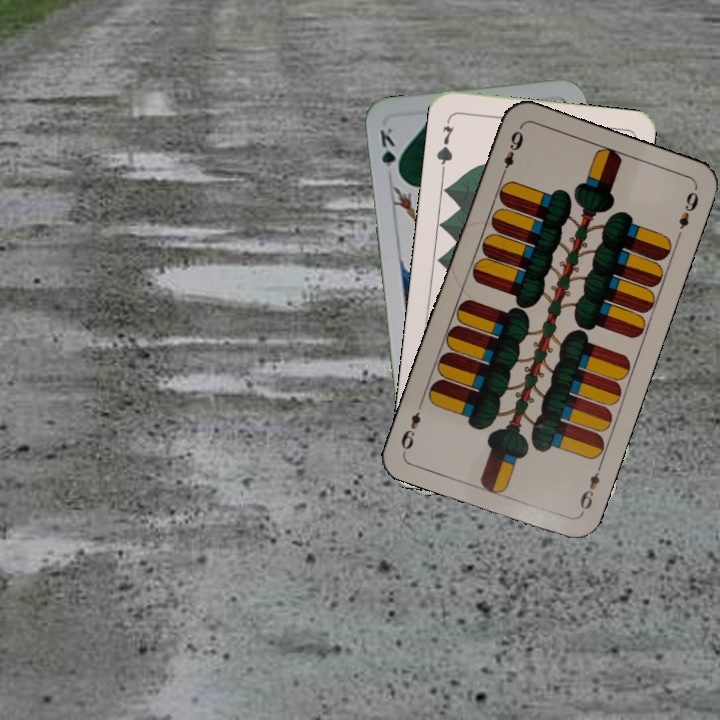E9: (575, 460, 605, 517), (496, 126, 526, 181)
G7: (432, 114, 457, 174)
GK: (376, 123, 402, 180)
